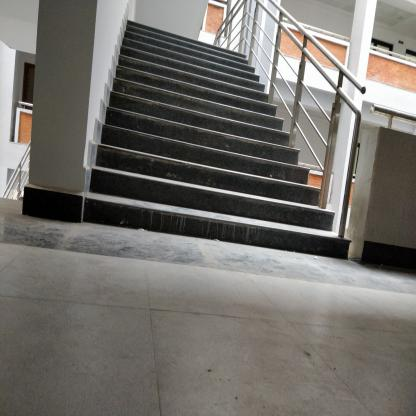stairs: (122, 53, 248, 246)
